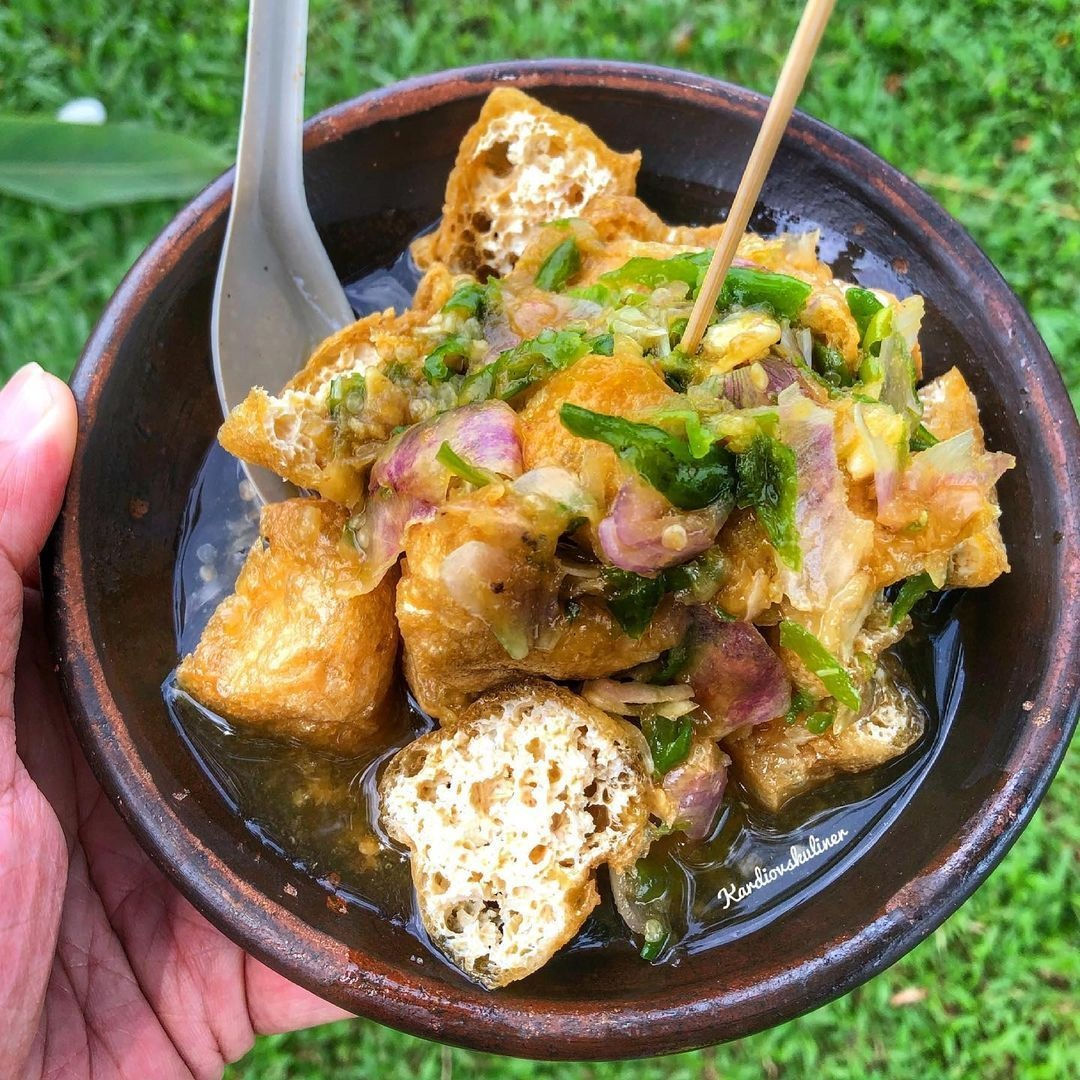tahu_gejrot: (165, 83, 1006, 998)
